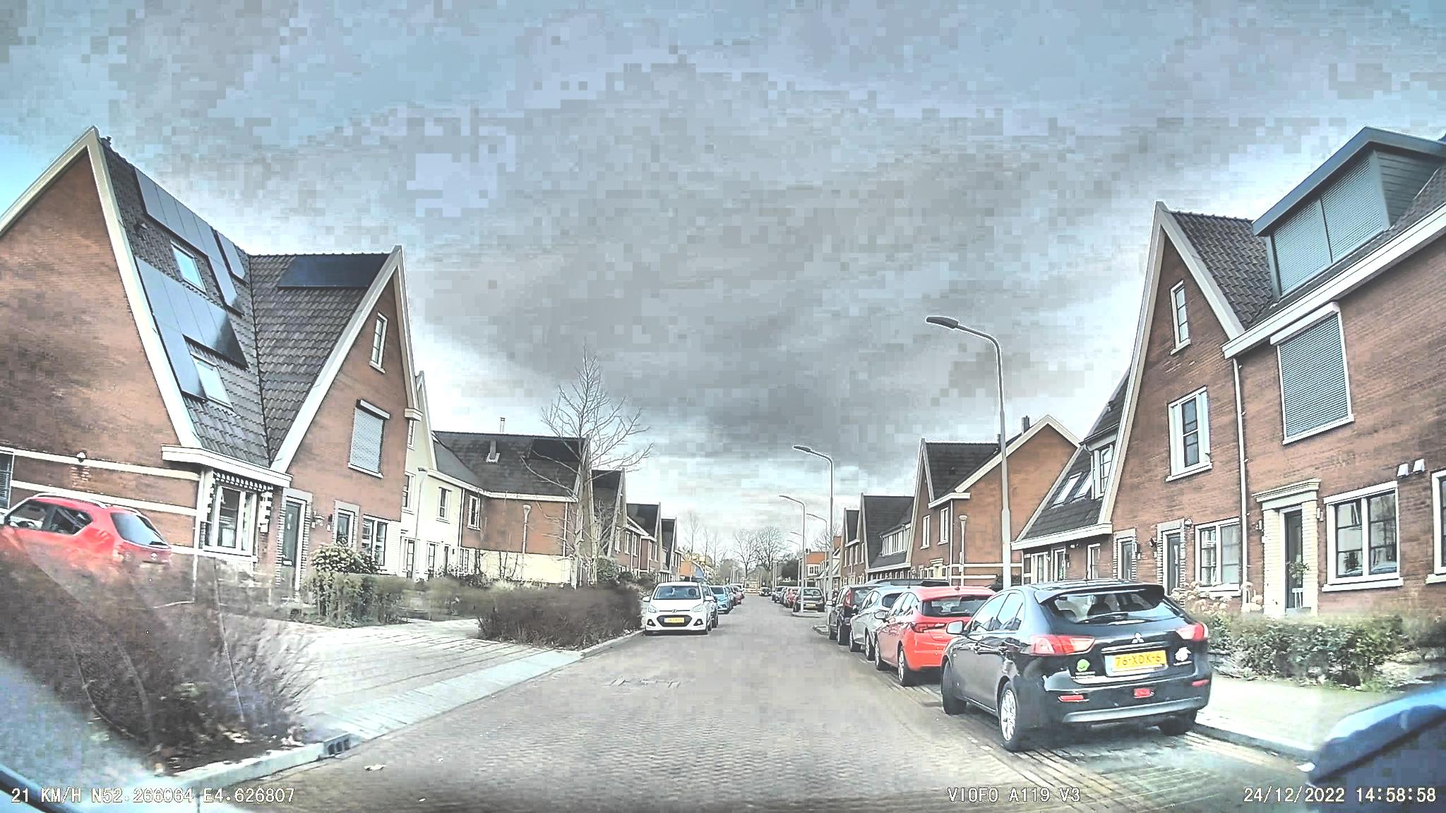Roads: (92, 602, 1303, 813)
